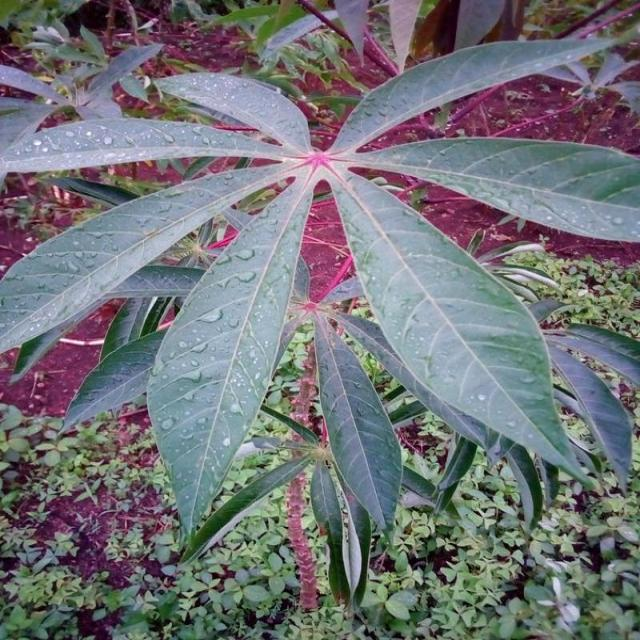cassava leaf: (0, 22, 638, 607), (323, 163, 598, 493), (145, 162, 315, 547)
